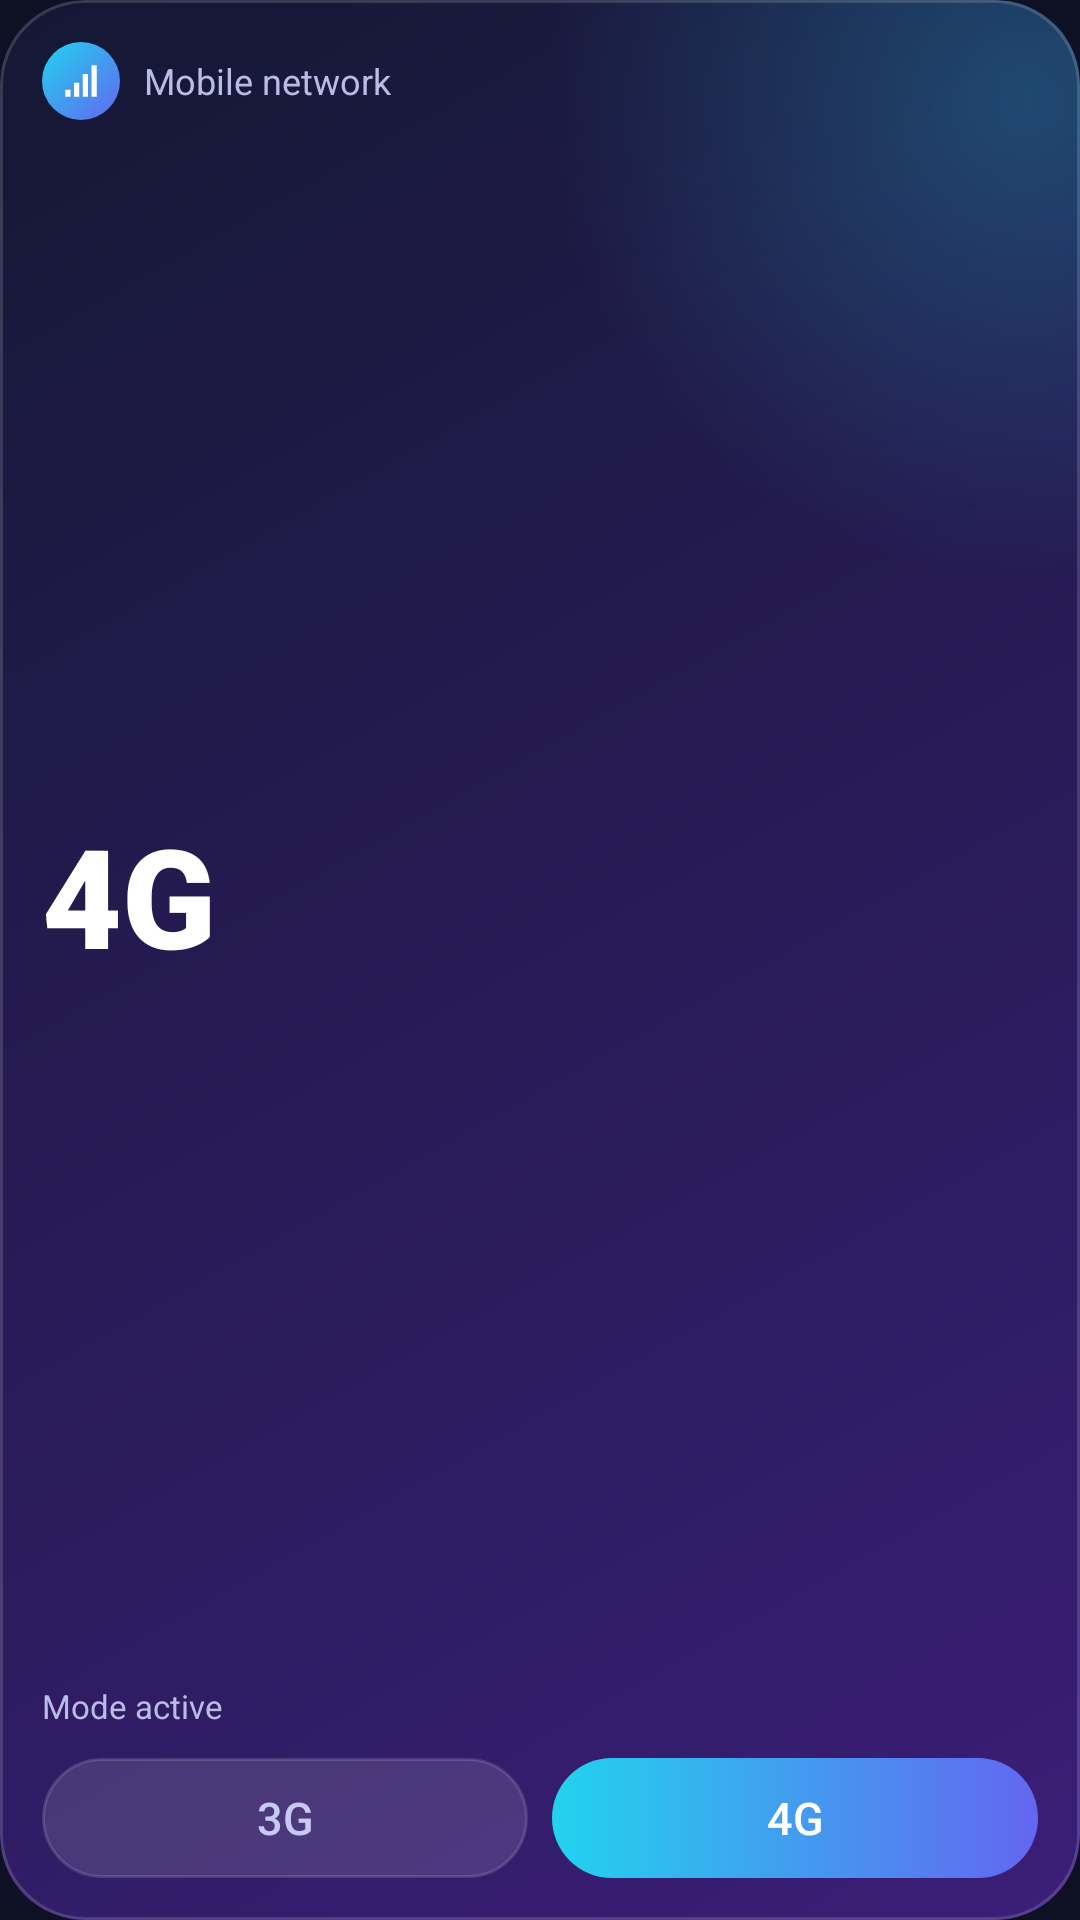

Icon bounding boxes for this 1080×1920 phone screenshot, format (x1, y1, x2, y2):
signal: (42, 42, 120, 120)
